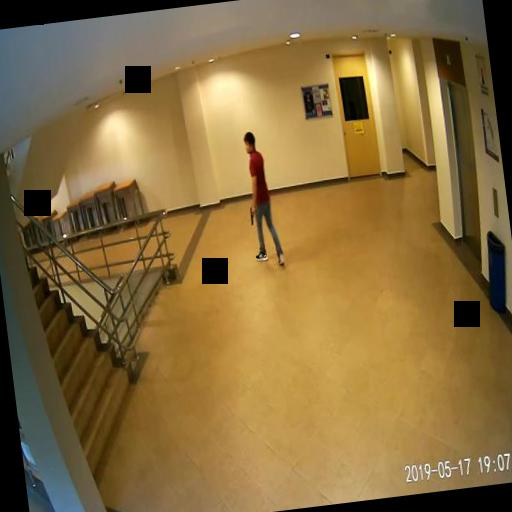Handgun: (248, 204, 256, 222)
